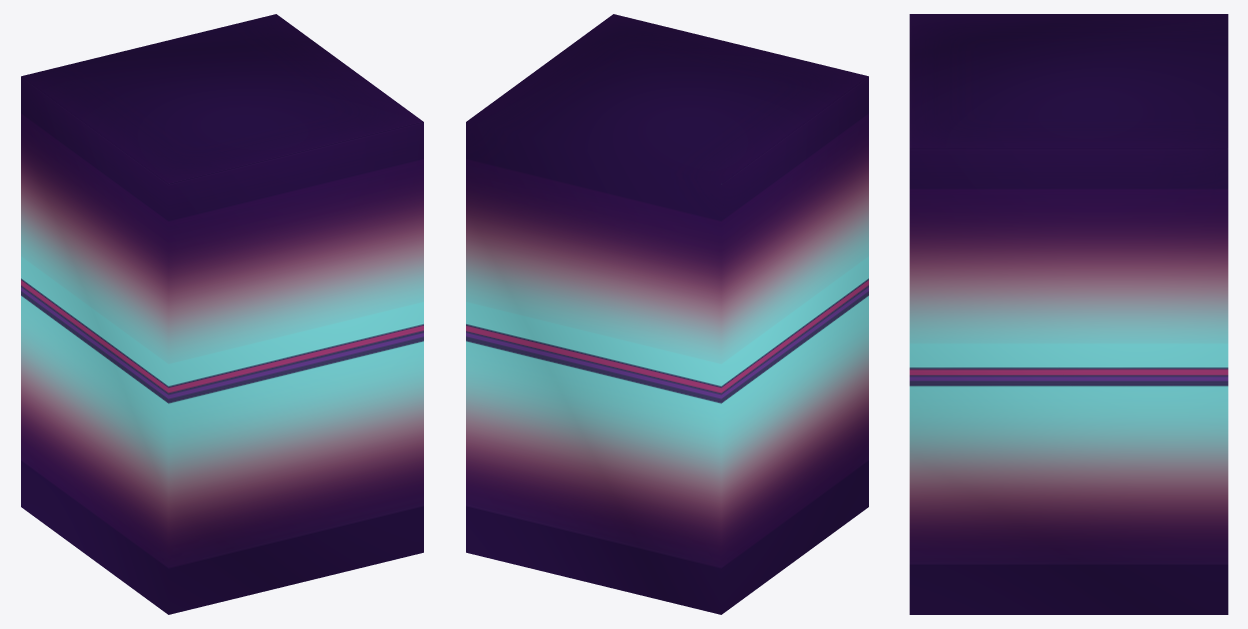
File: neon_city.glb
3 views of the same model, side by side, from view 1: azimuth 30°, elevation 25°; view 2: azimuth 150°, elevation 25°; view 3: azimuth 270°, elevation 25° (orthographic). The views are drawn at different scales.
Visible parts, largest first — view 1: Default_mat1_Default_4; view 2: Default_mat1_Default_4; view 3: Default_mat1_Default_4.
Part boxes in pixels (x1,y1,x2,y2): Default_mat1_Default_4: [21, 14, 423, 614]; Default_mat1_Default_4: [466, 14, 868, 614]; Default_mat1_Default_4: [909, 14, 1228, 614].
Bounding box in the file's own units: 6.55 × 10.22 × 6.55.
Materials: 6 (5 with a texture image).
